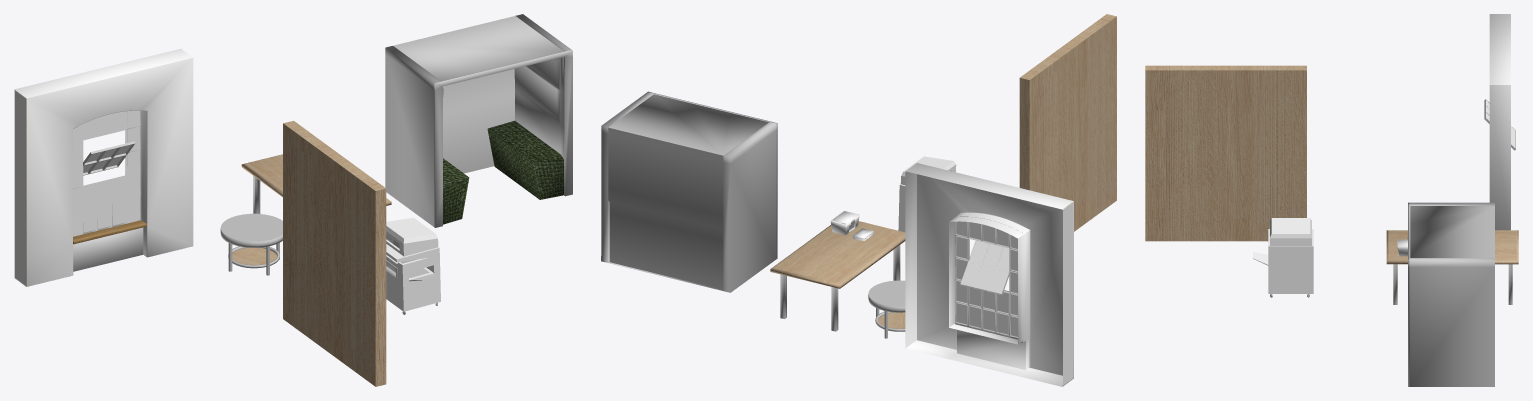
File: EXTRACLEANED.fbx
The picture shows the model from 3 angles, left to right: view 1: azimuth 30°, elevation 25°; view 2: azimuth 150°, elevation 25°; view 3: azimuth 270°, elevation 25°; orthographic projection. The views are drawn at different scales.
Parts seen in each view (by area): view 1: PhoneBoothEXTRACLEAN, WindowEXTRACLEAN, FACING_WALL/EXTRACLEAN, WindowBig_Clean.001, FotocopierEXTRACLEAN, Coffee_TableEXTRACLEAN, DeskConferenceRoomEXTRACLEAN, Window_Openable_part.001, Wall_6mx40cm_Window_002; view 2: PhoneBoothEXTRACLEAN, WindowEXTRACLEAN, FACING_WALL/EXTRACLEAN, DeskConferenceRoomEXTRACLEAN, WindowBig_Clean.001, Wall_6mx40cm_Window_002, Coffee_TableEXTRACLEAN, FotocopierEXTRACLEAN, PrinterEXTRACLEAN; view 3: FACING_WALL/EXTRACLEAN, PhoneBoothEXTRACLEAN, WindowEXTRACLEAN, FotocopierEXTRACLEAN, DeskConferenceRoomEXTRACLEAN.
Boxes of the visible parts, <box> form: PhoneBoothEXTRACLEAN: <box>385,14,572,227</box>; WindowEXTRACLEAN: <box>14,49,193,286</box>; FACING_WALL/EXTRACLEAN: <box>283,120,386,386</box>; WindowBig_Clean.001: <box>73,110,141,236</box>; FotocopierEXTRACLEAN: <box>386,217,440,314</box>; Coffee_TableEXTRACLEAN: <box>220,213,282,275</box>; DeskConferenceRoomEXTRACLEAN: <box>241,154,391,213</box>; Window_Openable_part.001: <box>83,141,135,175</box>; Wall_6mx40cm_Window_002: <box>83,144,131,172</box>; PhoneBoothEXTRACLEAN: <box>601,91,777,292</box>; WindowEXTRACLEAN: <box>905,163,1073,386</box>; FACING_WALL/EXTRACLEAN: <box>1019,14,1116,231</box>; DeskConferenceRoomEXTRACLEAN: <box>770,221,905,331</box>; WindowBig_Clean.001: <box>955,216,1017,339</box>; Wall_6mx40cm_Window_002: <box>960,240,1009,293</box>; Coffee_TableEXTRACLEAN: <box>868,280,905,338</box>; FotocopierEXTRACLEAN: <box>898,156,956,232</box>; PrinterEXTRACLEAN: <box>830,211,859,235</box>; FACING_WALL/EXTRACLEAN: <box>1145,65,1306,241</box>; PhoneBoothEXTRACLEAN: <box>1408,202,1494,386</box>; WindowEXTRACLEAN: <box>1489,14,1510,230</box>; FotocopierEXTRACLEAN: <box>1253,218,1313,297</box>; DeskConferenceRoomEXTRACLEAN: <box>1386,230,1518,304</box>.
Size of the model in its own units: 934 by 386 by 693.
